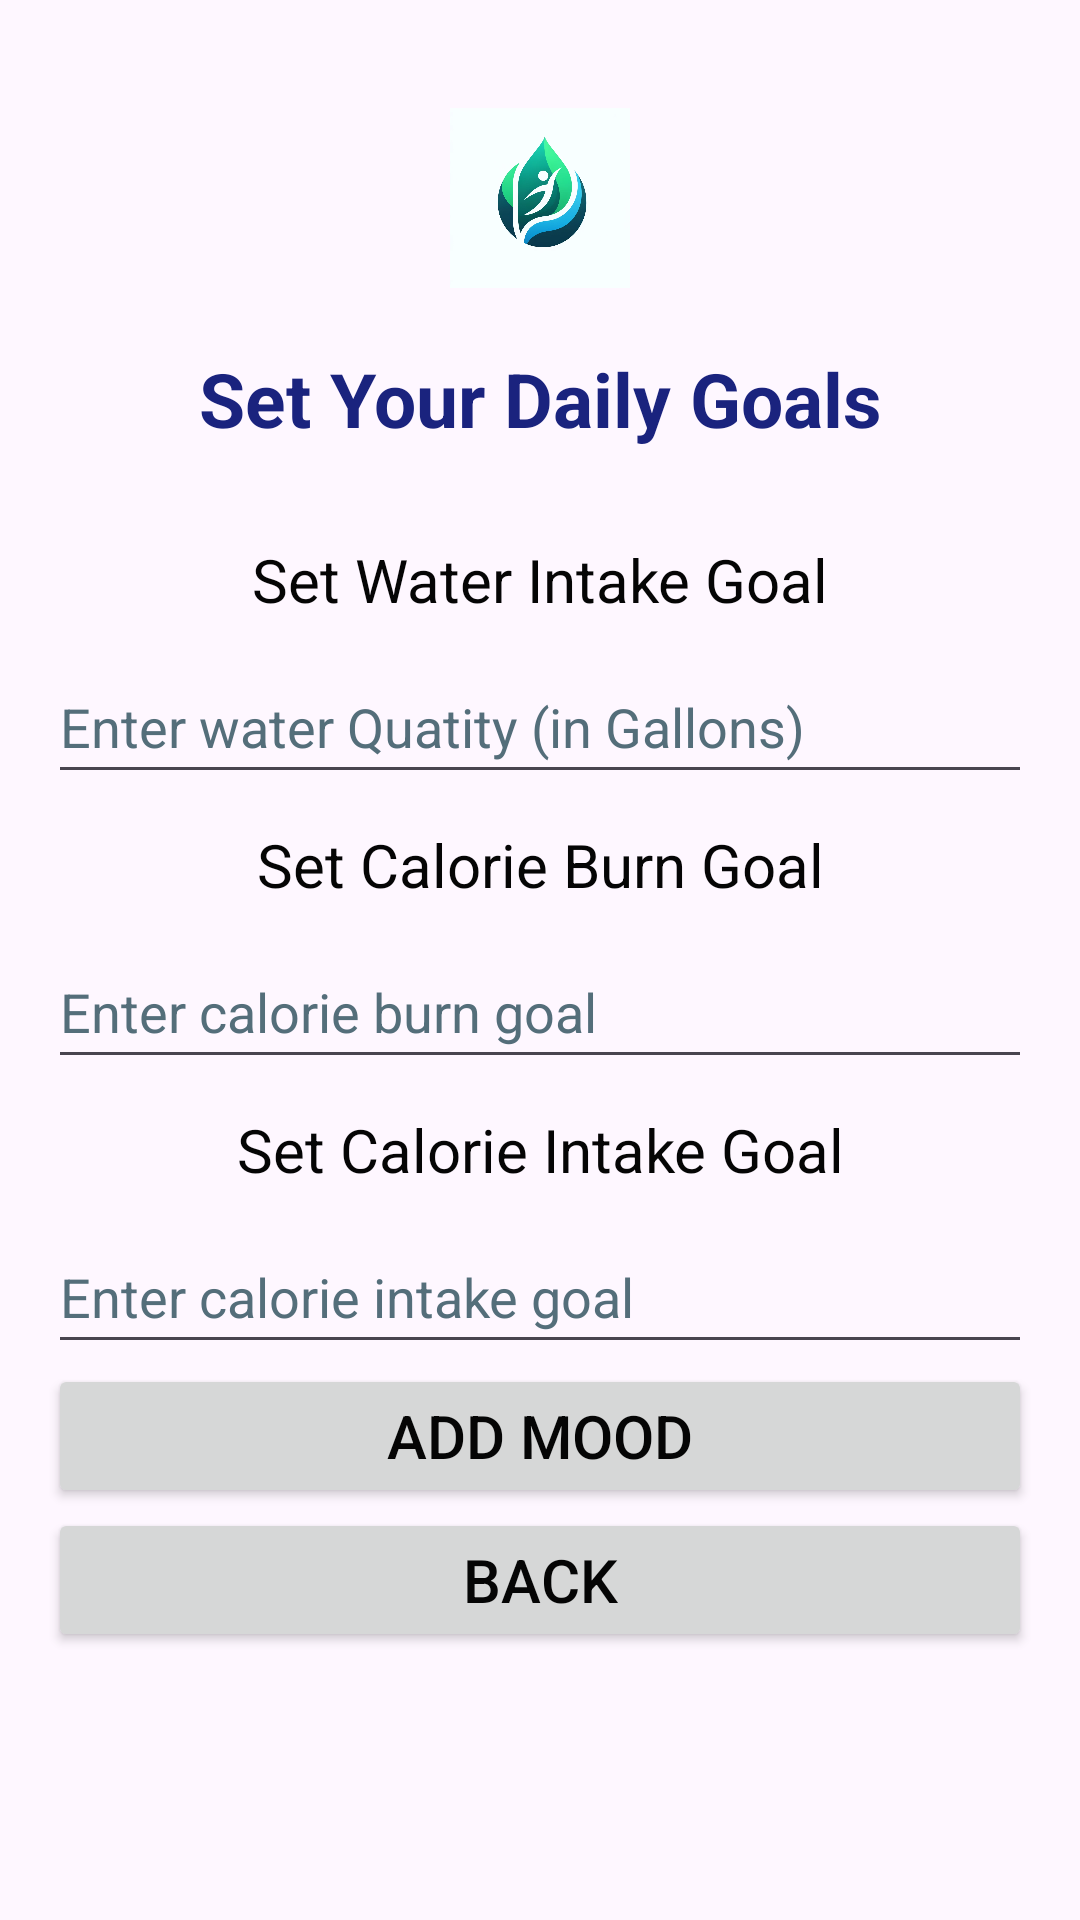

Named icons in this screenshot (1080w x 1920h) and their centers, (x,y):
app icon: (542,192)
